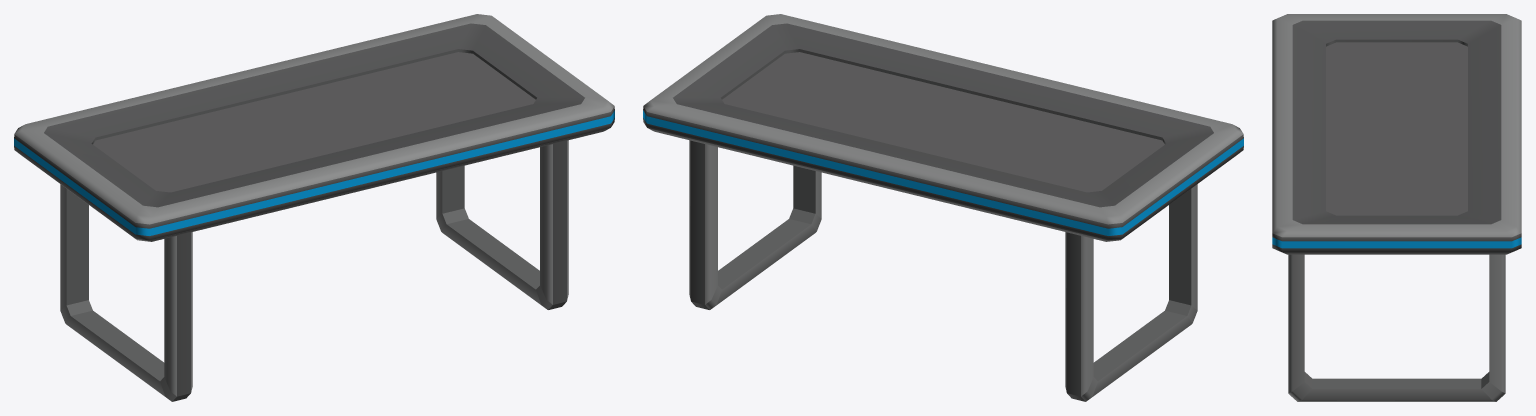
File: Desk_043.fbx
The picture shows the model from 3 angles, left to right: view 1: azimuth 30°, elevation 25°; view 2: azimuth 150°, elevation 25°; view 3: azimuth 270°, elevation 25°; orthographic projection. The views are drawn at different scales.
Parts seen in each view (by area): view 1: Desk_043; view 2: Desk_043; view 3: Desk_043.
Part boxes in pixels (left/top/right/bottom): Desk_043: left=14, top=14, right=614, bottom=401; Desk_043: left=643, top=14, right=1243, bottom=401; Desk_043: left=1272, top=14, right=1521, bottom=401.
Size of the model in its own units: 212 by 101 by 84.64.
